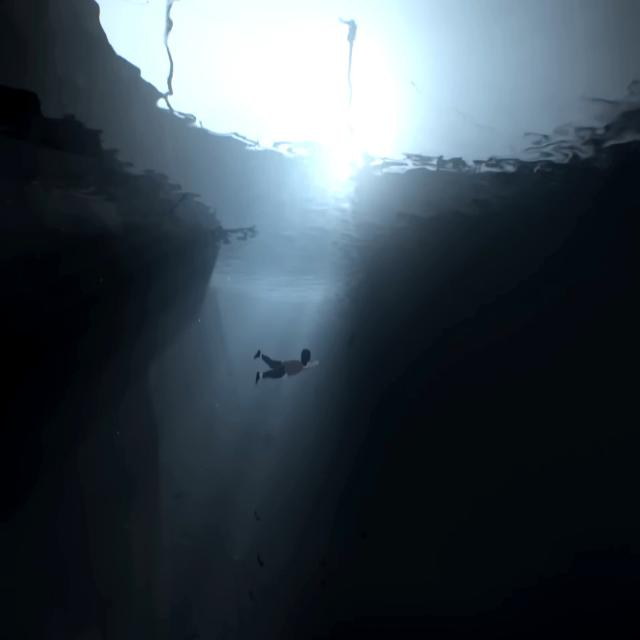boy: (254, 349, 319, 394)
